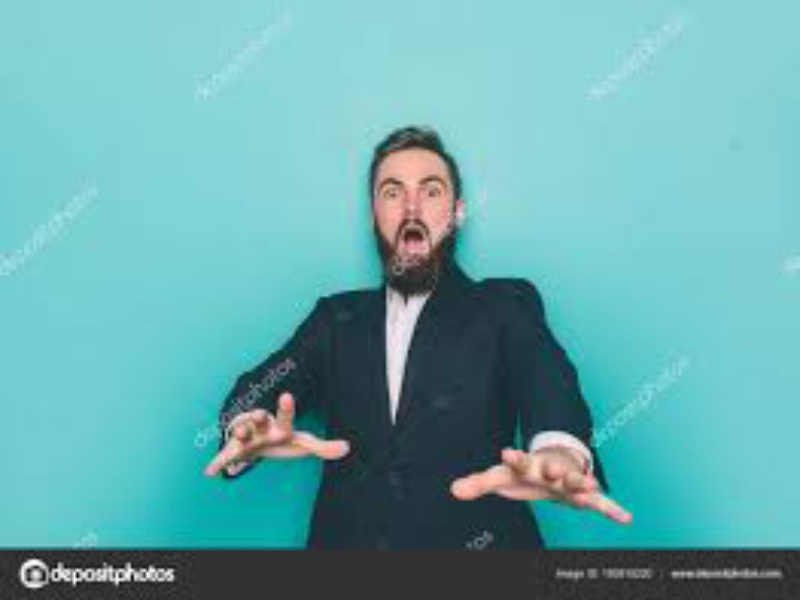TsisyArotava: (359, 130, 476, 286)
